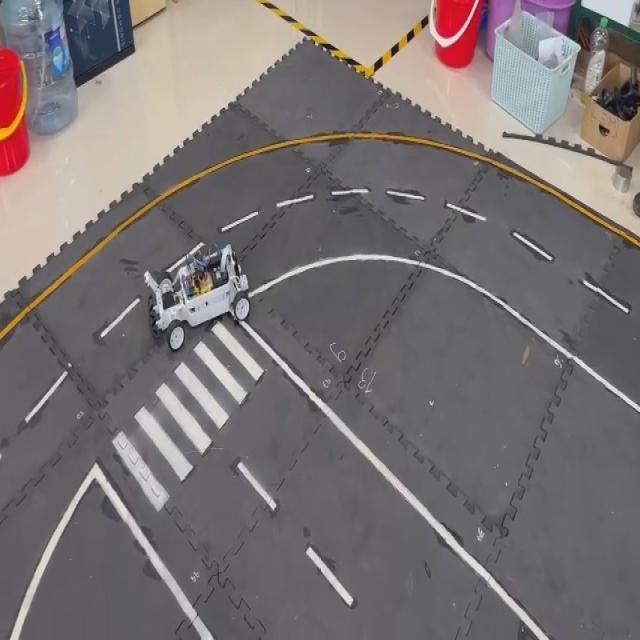SiCo-CAR: (142, 239, 251, 352)
